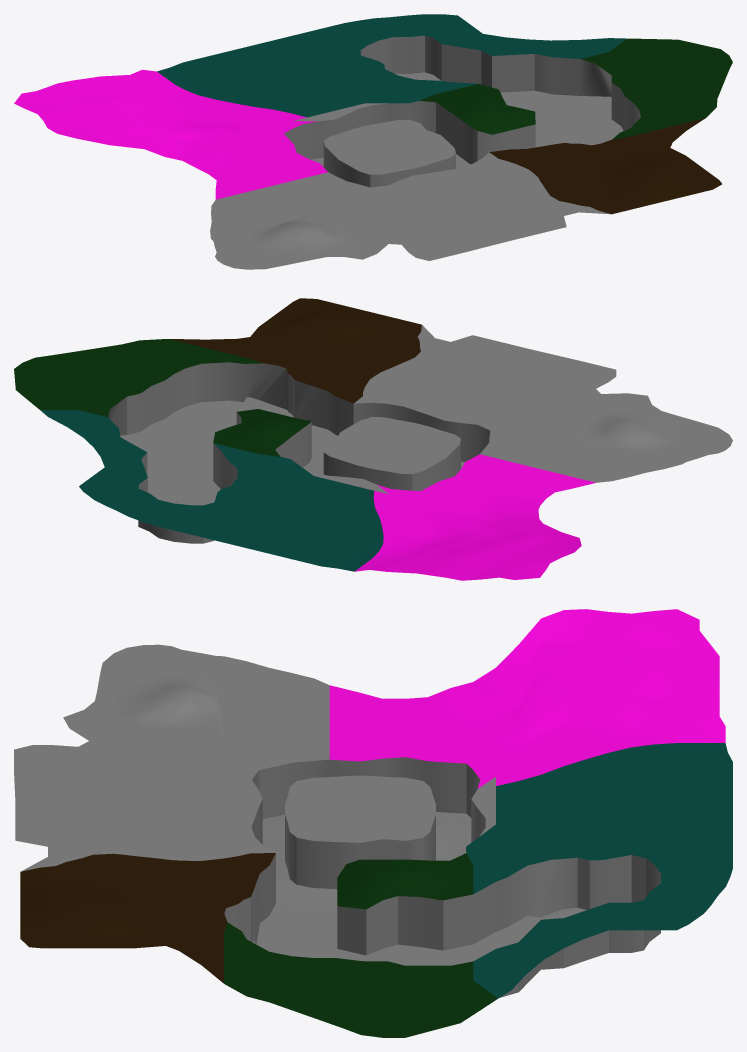
File: bla.obj
3 renders of one model, top to bottom at view 1: azimuth 30°, elevation 25°; view 2: azimuth 150°, elevation 25°; view 3: azimuth 270°, elevation 25°, orthographic. The views are drawn at different scales.
Parts seen in each view (by area): view 1: pPlane3; view 2: pPlane3; view 3: pPlane3.
Part boxes in pixels (bbox=[...]): pPlane3: bbox=[14, 14, 732, 269]; pPlane3: bbox=[14, 298, 732, 580]; pPlane3: bbox=[14, 609, 732, 1037].
Size of the model in its own units: 65.83 by 5.93 by 49.84.
